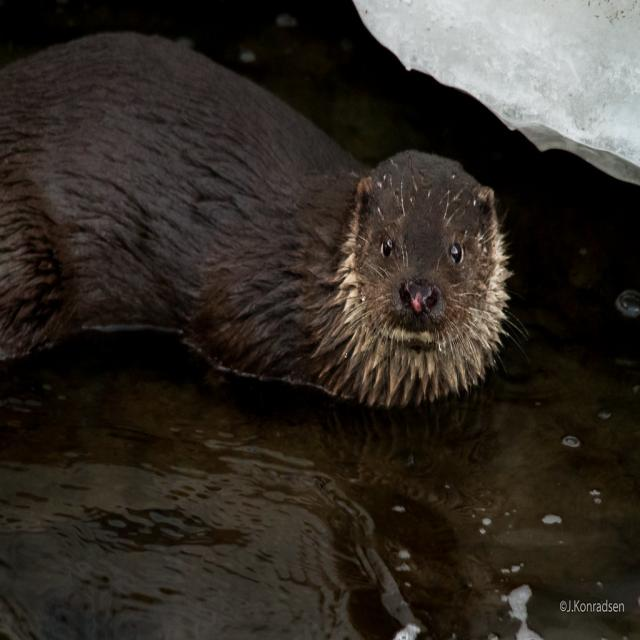otter: (297, 151, 507, 407)
